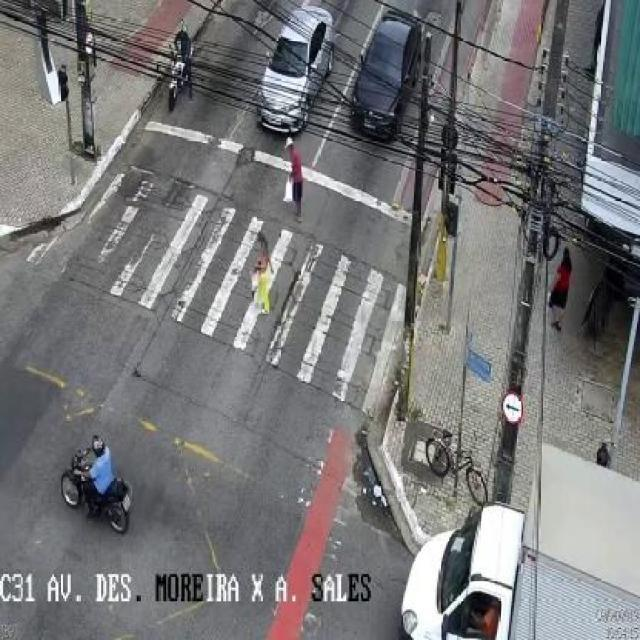Car: (256, 5, 337, 137), (347, 10, 426, 142)
Cycle: (56, 452, 134, 536), (426, 427, 490, 510), (168, 44, 192, 111)
Truck: (395, 443, 640, 640)
